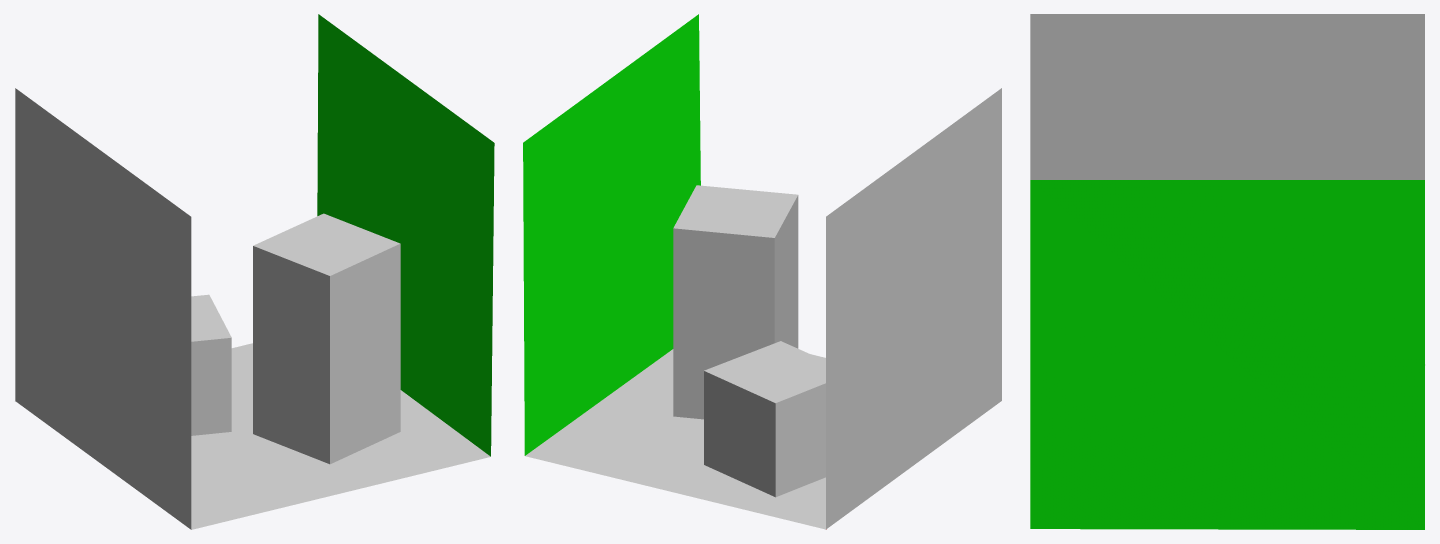
3 renders of one model, left to right at view 1: azimuth 30°, elevation 25°; view 2: azimuth 150°, elevation 25°; view 3: azimuth 270°, elevation 25°, orthographic. The views are drawn at different scales.
Parts seen in each view (by area): view 1: tall_block, green_wall, floor, short_block; view 2: tall_block, green_wall, short_block, floor; view 3: green_wall, tall_block.
Boxes of the visible parts, bbox=[...] form: tall_block: bbox=[15, 88, 400, 529]; green_wall: bbox=[317, 14, 494, 456]; floor: bbox=[191, 337, 490, 529]; short_block: bbox=[191, 294, 231, 341]; tall_block: bbox=[673, 88, 1001, 529]; green_wall: bbox=[523, 14, 700, 455]; short_block: bbox=[673, 228, 825, 497]; floor: bbox=[525, 349, 825, 529]; green_wall: bbox=[1030, 180, 1424, 529]; tall_block: bbox=[1030, 14, 1424, 179].
Size of the model in its own units: 557 by 549 by 560.
